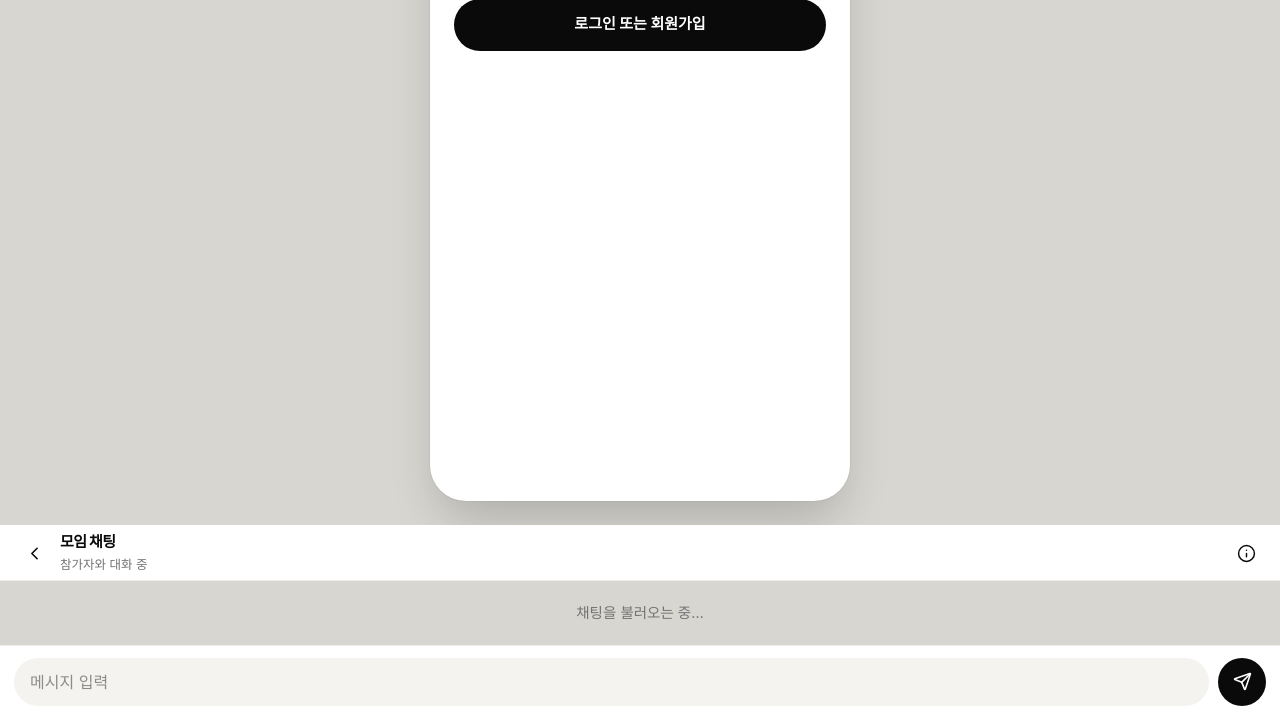
Scenario: #431 CHAT-03 실시간 수신·재연결 › CSRF 대기 중에는 deadline을 시작하지 않고 실제 POST 시작 뒤에만 결과 미확정으로 처리한다
(page scrolled)
Type "CSRF 대기 메시지" into the text box labelled "메시지".
click(612, 682); type("CSRF 대기 메시지")  # box [14,658,1209,706]
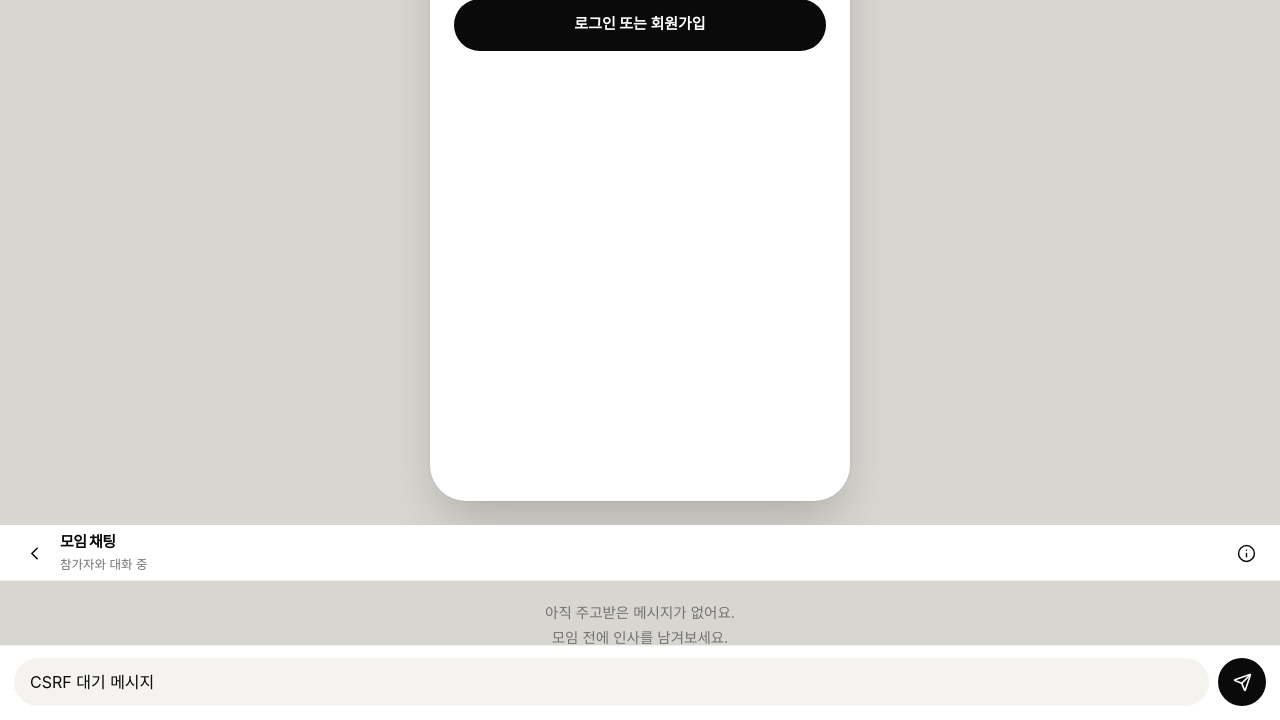
Click the button named "전송".
click(1242, 682)  # box [1218,658,1266,706]
Wait 6000 ms
(page scrolled)
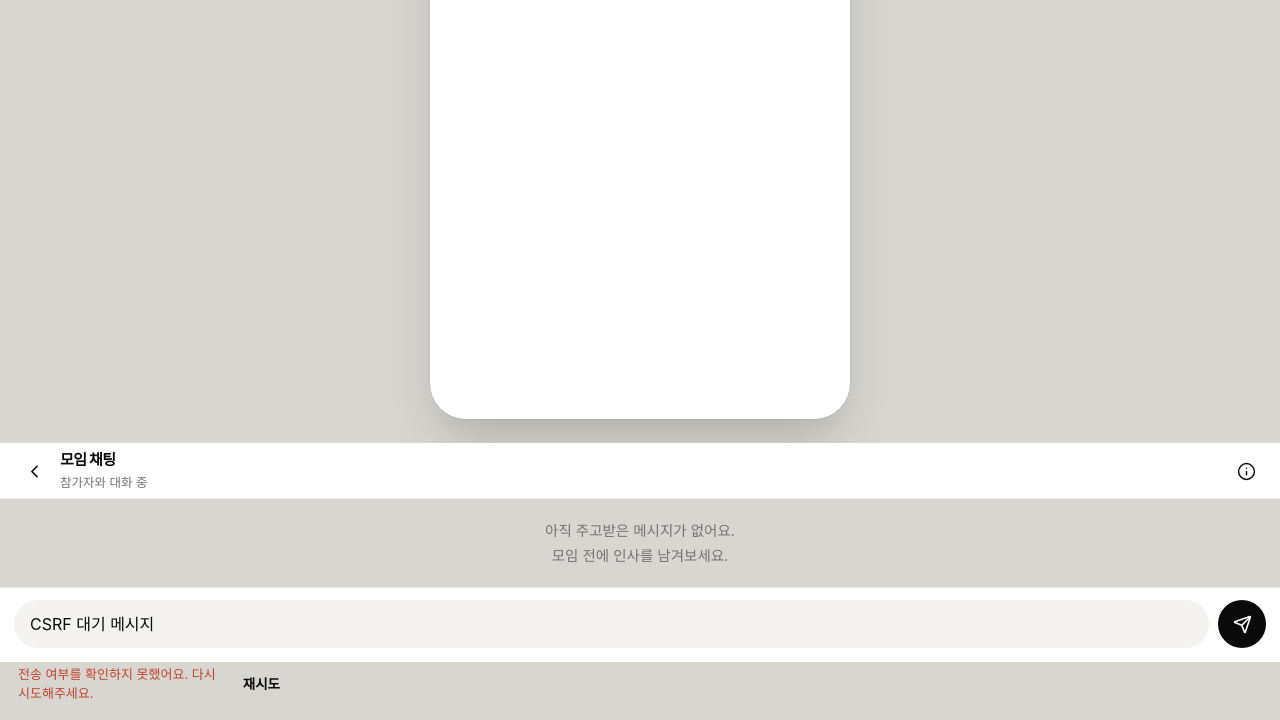
Expected: the button named "전송 중…" is shown, [1218,600,1266,648]
Expected: the message shows "전송 여부를 확인하지 못했어요. 다시 시도해주세요.", [18,666,216,701]
